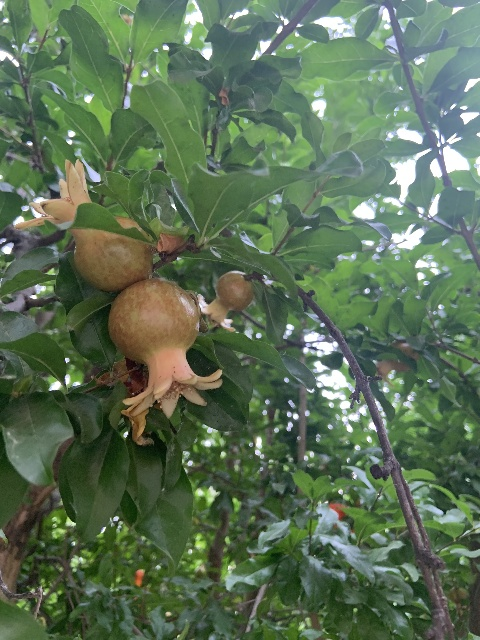early-fruit: (15, 158, 153, 290), (109, 279, 224, 436), (201, 270, 254, 330), (373, 338, 417, 389)
